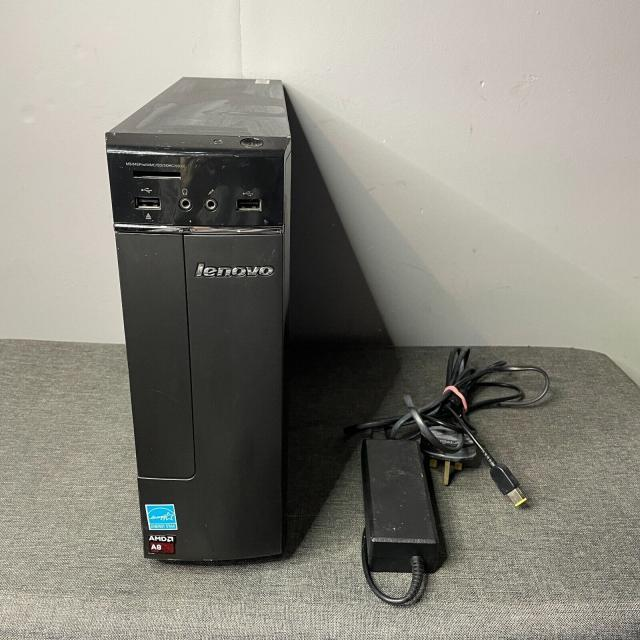Desktop-PC: (90, 13, 316, 583)
